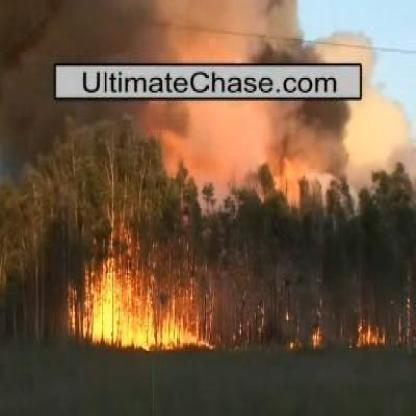-: (10, 3, 308, 62), (164, 102, 355, 164)
foggia-v2-map80-epoch100 - v1 4323: (90, 269, 144, 344)
